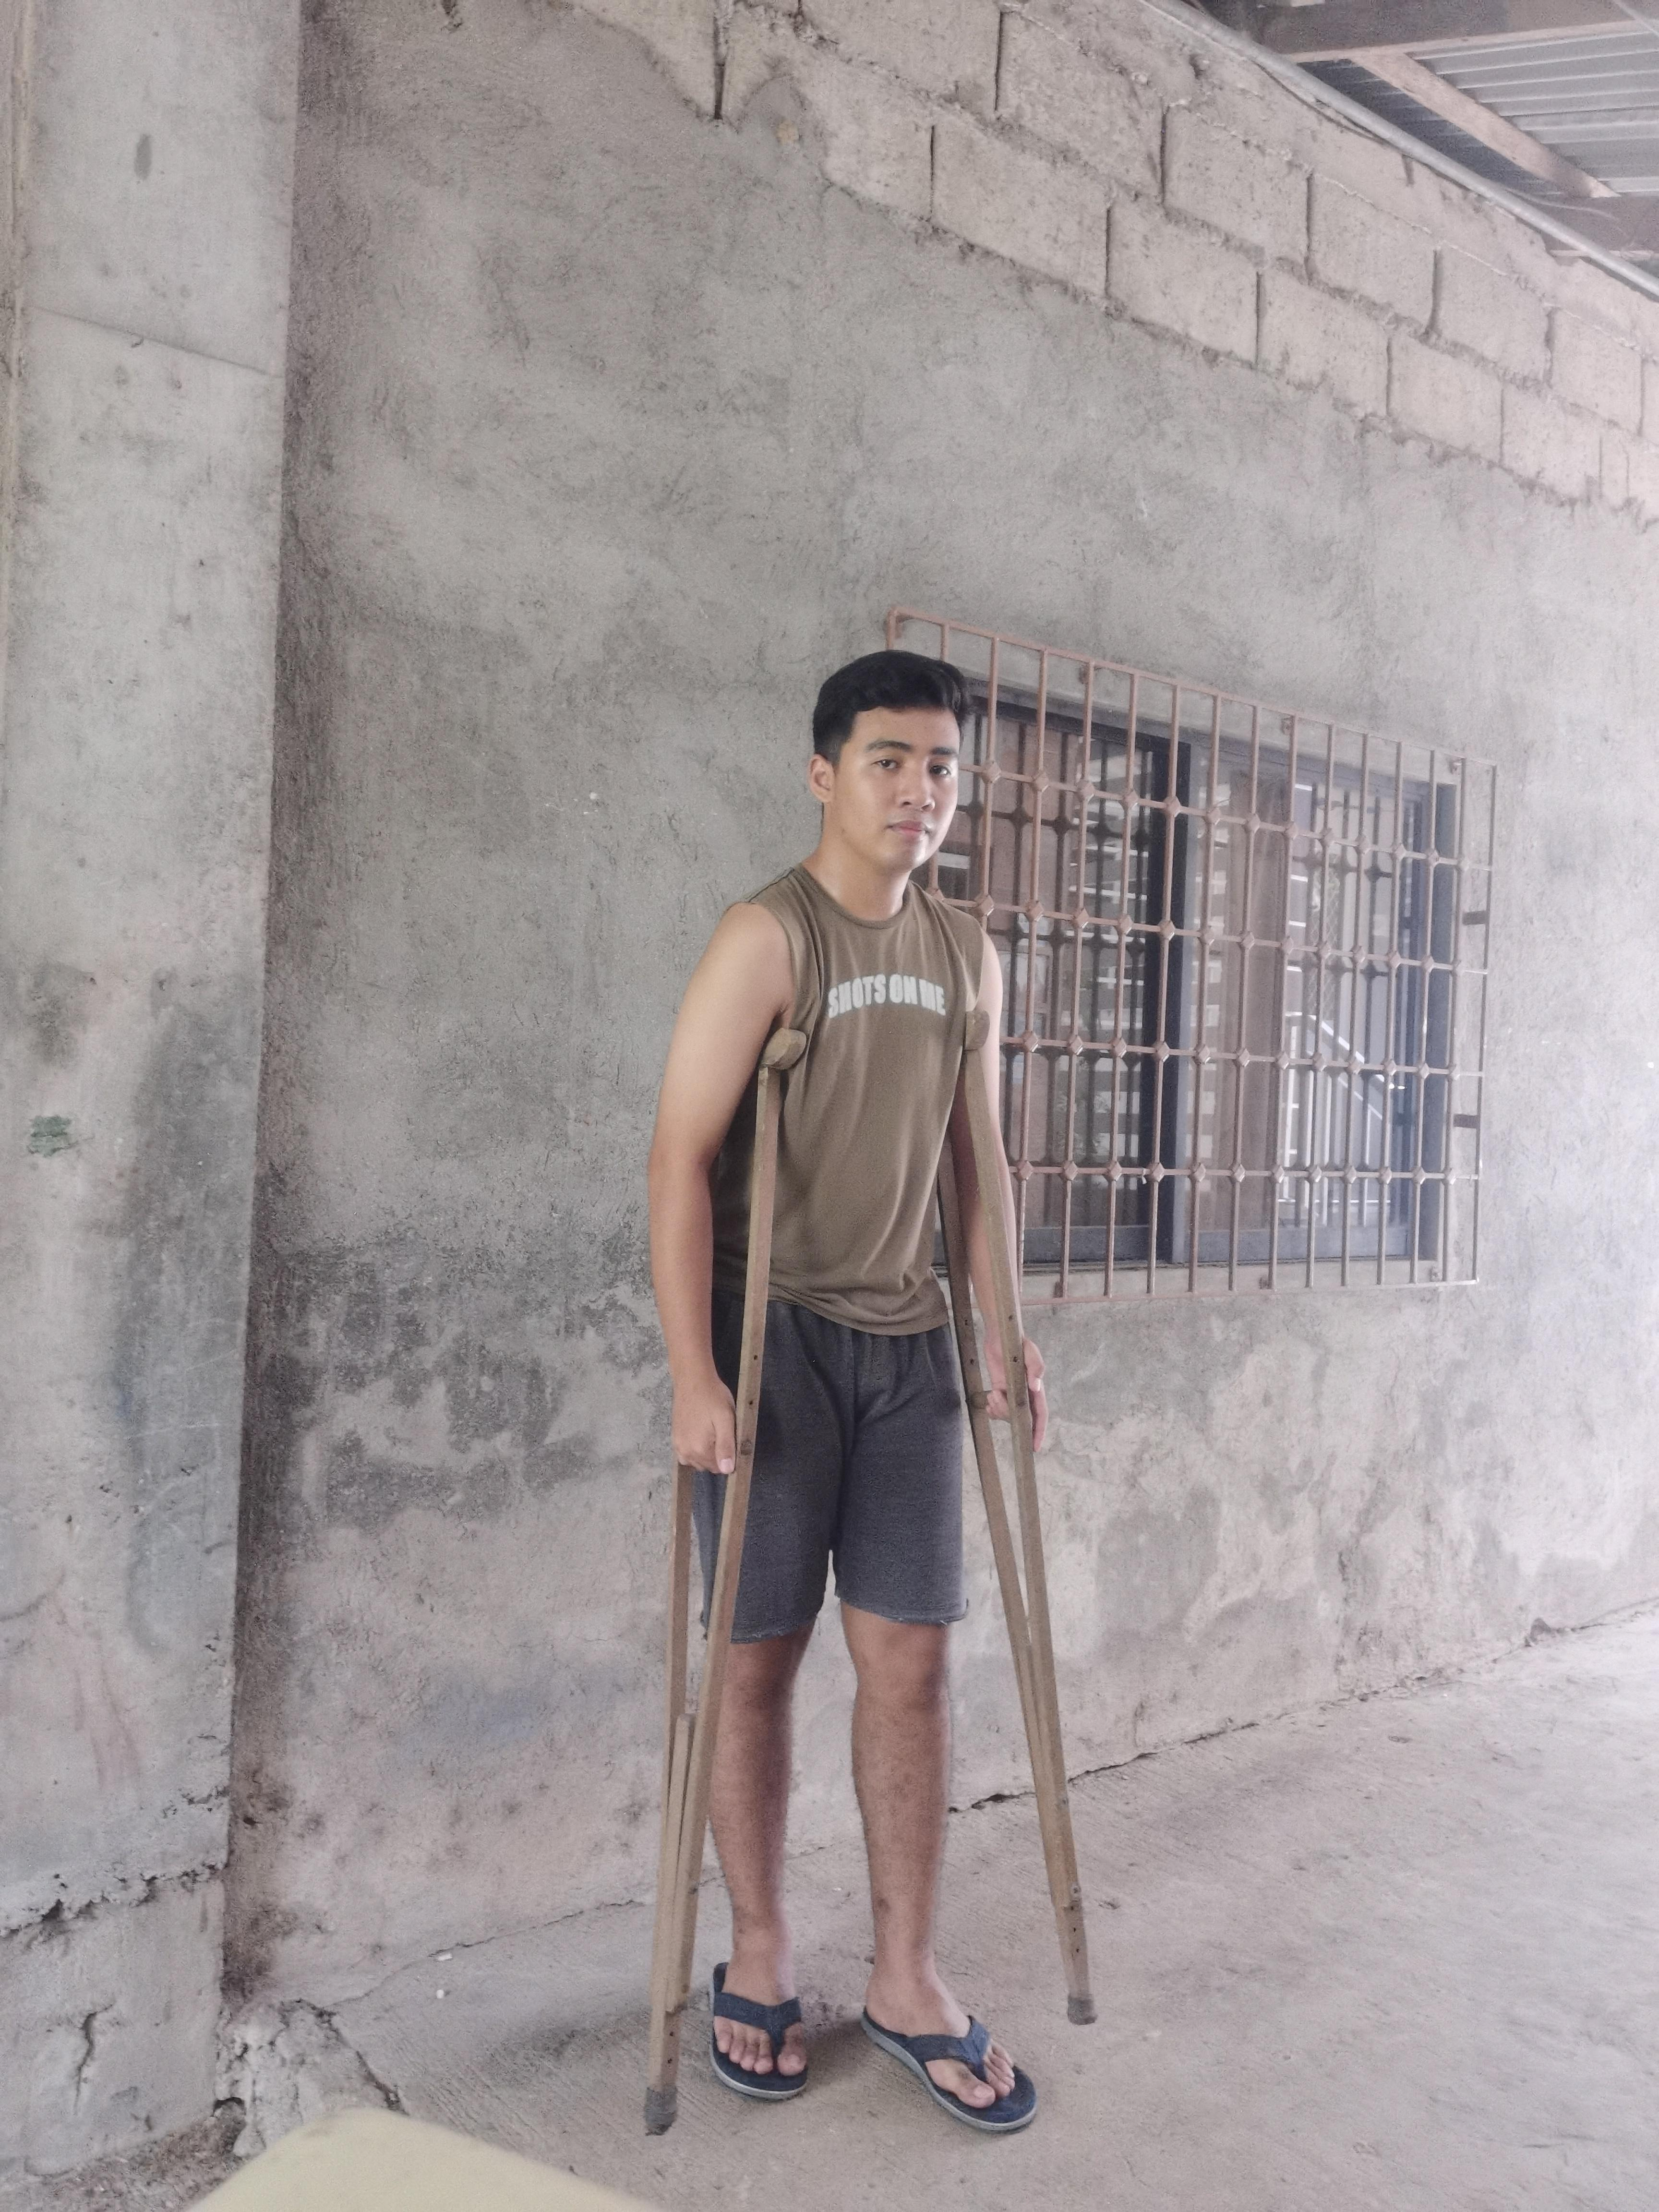crutches: (615, 641, 1114, 2158)
